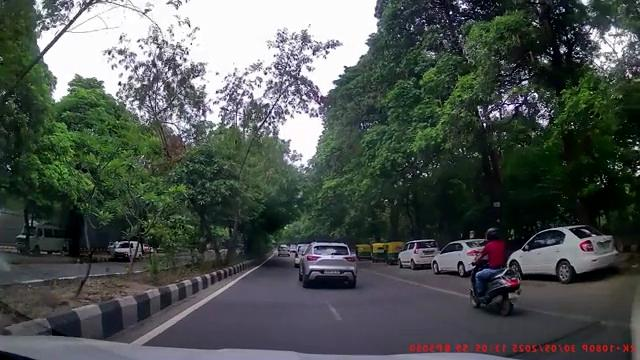motorcycle_with_helmet: (464, 226, 524, 317)
